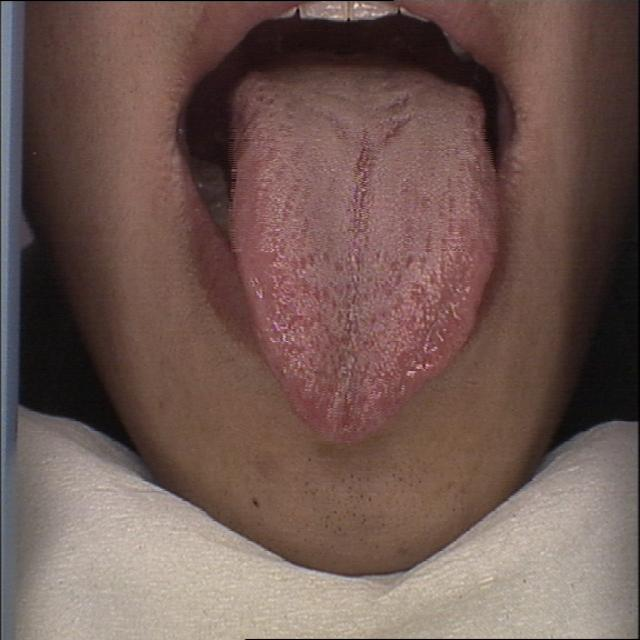tongue: (225, 45, 499, 459)
